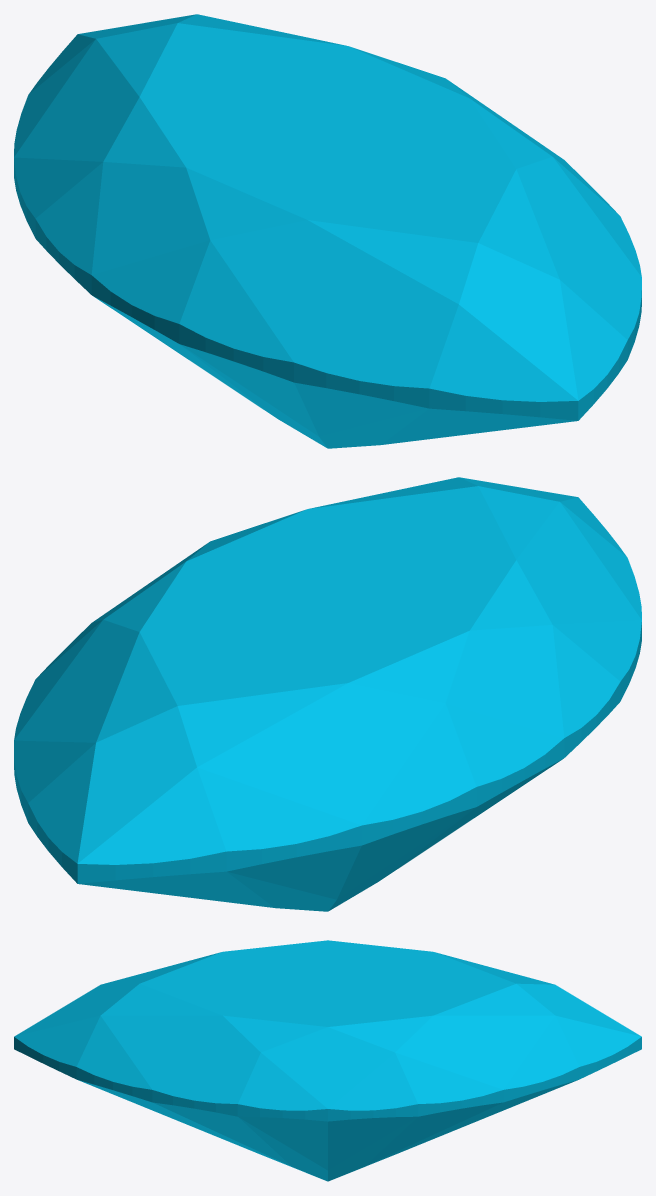
The model's file is Head_No Halo_Marquise_1.5ct_Diamond.glb.
The picture shows the model from 3 angles, top to bottom: view 1: azimuth 30°, elevation 25°; view 2: azimuth 150°, elevation 25°; view 3: azimuth 270°, elevation 25°; orthographic projection. The views are drawn at different scales.
Bounding box in the file's own units: 0.00597 × 0.00381 × 0.011.
